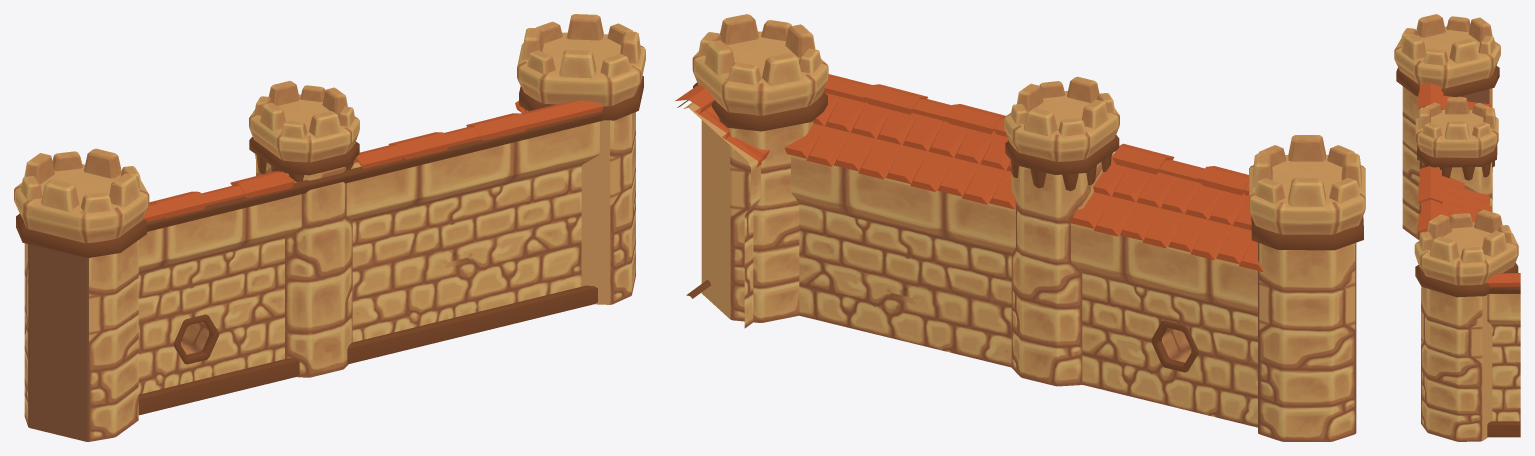
File: wallSection_turn_1x1_glb.glb
The picture shows the model from 3 angles, left to right: view 1: azimuth 30°, elevation 25°; view 2: azimuth 150°, elevation 25°; view 3: azimuth 270°, elevation 25°; orthographic projection. The views are drawn at different scales.
Visible parts, largest first — view 1: wallSection_turn_2x1; view 2: wallSection_turn_2x1; view 3: wallSection_turn_2x1.
Boxes of the visible parts, bbox=[...] form: wallSection_turn_2x1: bbox=[14, 14, 645, 441]; wallSection_turn_2x1: bbox=[675, 14, 1365, 441]; wallSection_turn_2x1: bbox=[1394, 14, 1520, 441].
Size of what is drawn, in the model's own units: 19.96 by 7.85 by 4.42.
Materials: 1 (1 with a texture image).
